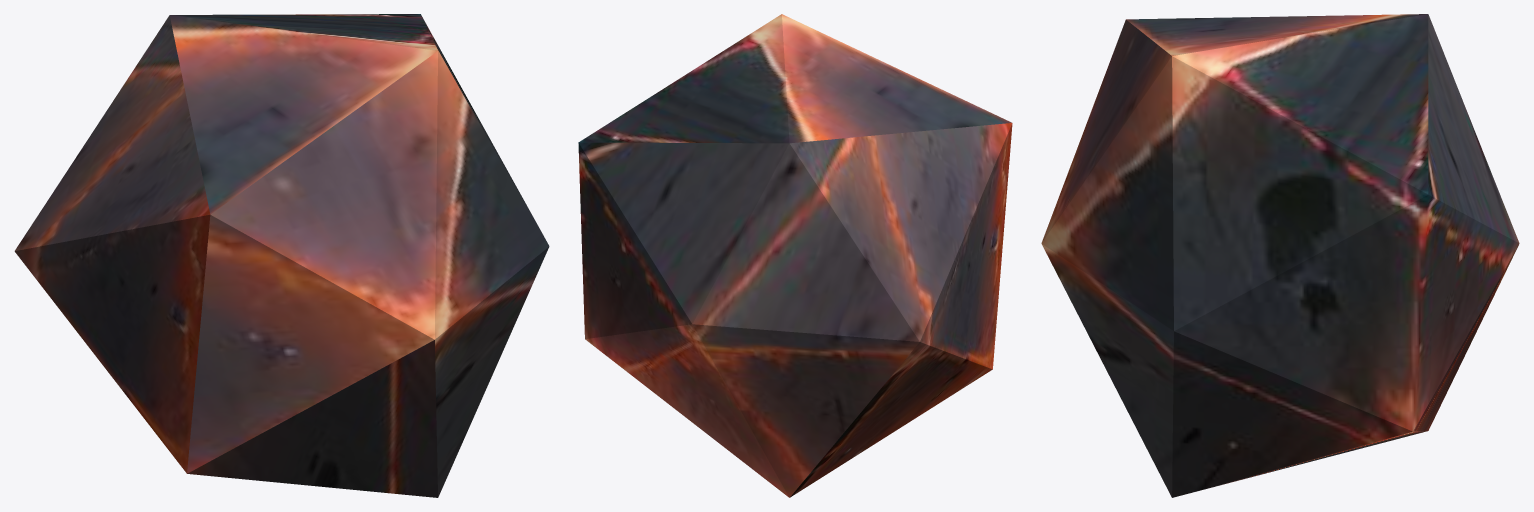
File: Meteor.fbx
3 renders of one model, left to right at view 1: azimuth 30°, elevation 25°; view 2: azimuth 150°, elevation 25°; view 3: azimuth 270°, elevation 25°, orthographic. The views are drawn at different scales.
Parts seen in each view (by area): view 1: pPlatonic1; view 2: pPlatonic1; view 3: pPlatonic1.
Boxes of the visible parts, bbox=[...] form: pPlatonic1: bbox=[14, 14, 549, 497]; pPlatonic1: bbox=[578, 14, 1012, 497]; pPlatonic1: bbox=[1041, 14, 1519, 497].
Size of the model in its own units: 1.62 by 1.7 by 1.67.
Materials: 1 (1 with a texture image).
